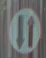Two way: (5, 3, 45, 54)
